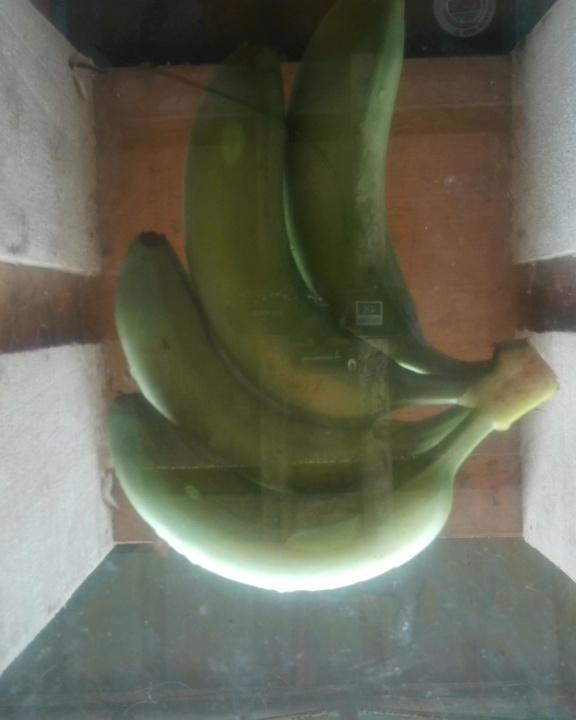SPOT: (95, 1, 566, 592)
